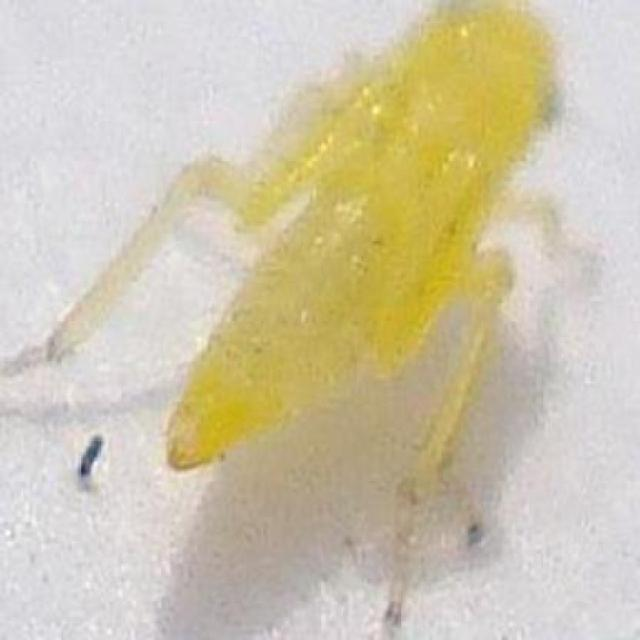green-leafhopper: (149, 3, 556, 508)
